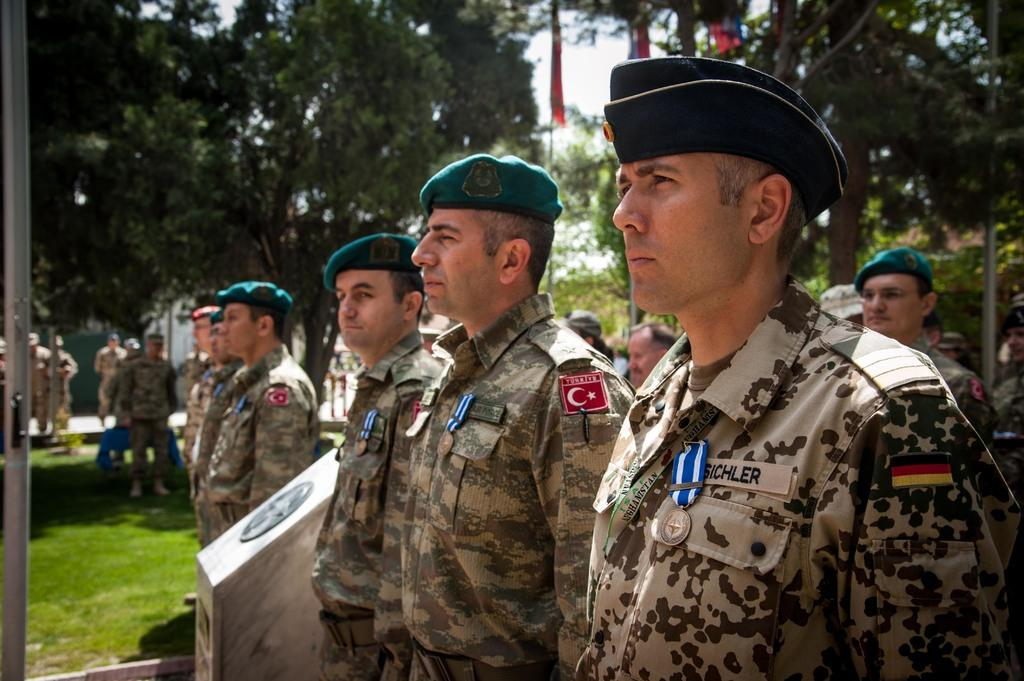Hat: (819, 284, 861, 316), (139, 330, 167, 344)
